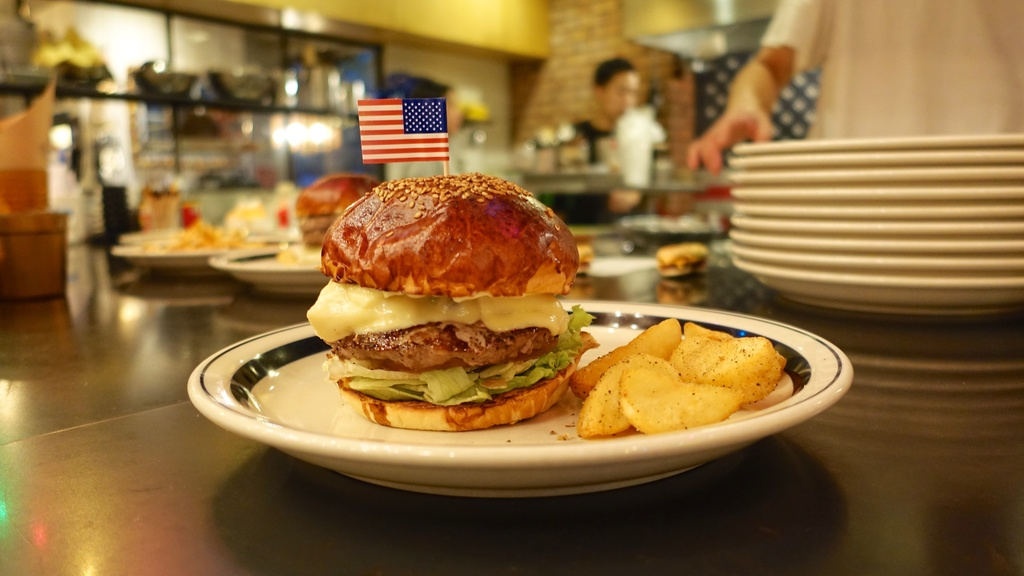Hamburger: (302, 168, 575, 427)
